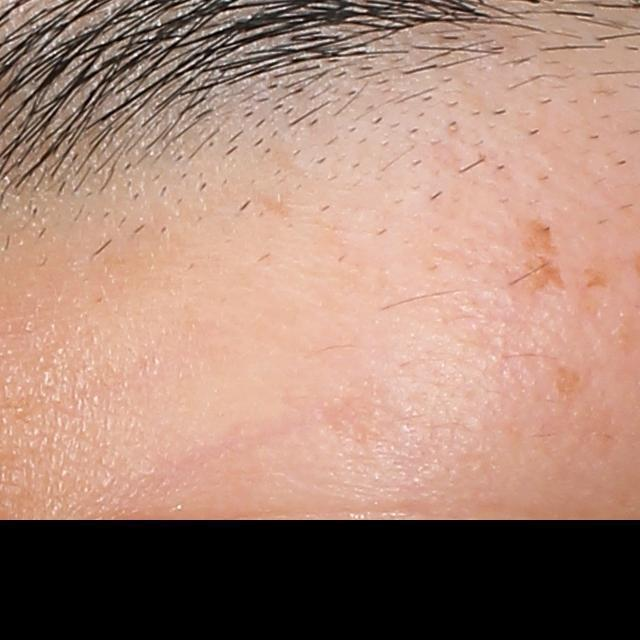melasma: (525, 220, 558, 253), (553, 365, 585, 390)
